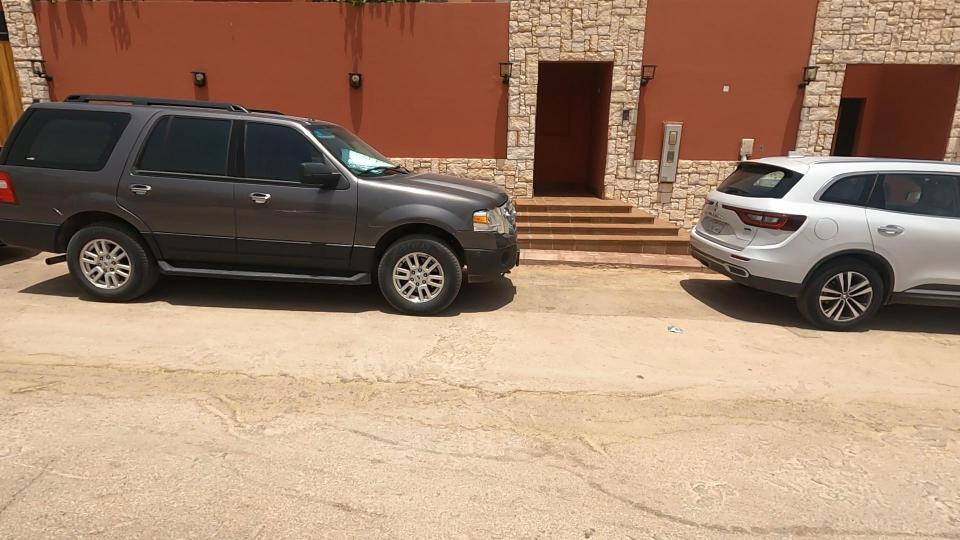POTHOLES: (321, 289, 696, 540), (89, 289, 449, 516)
